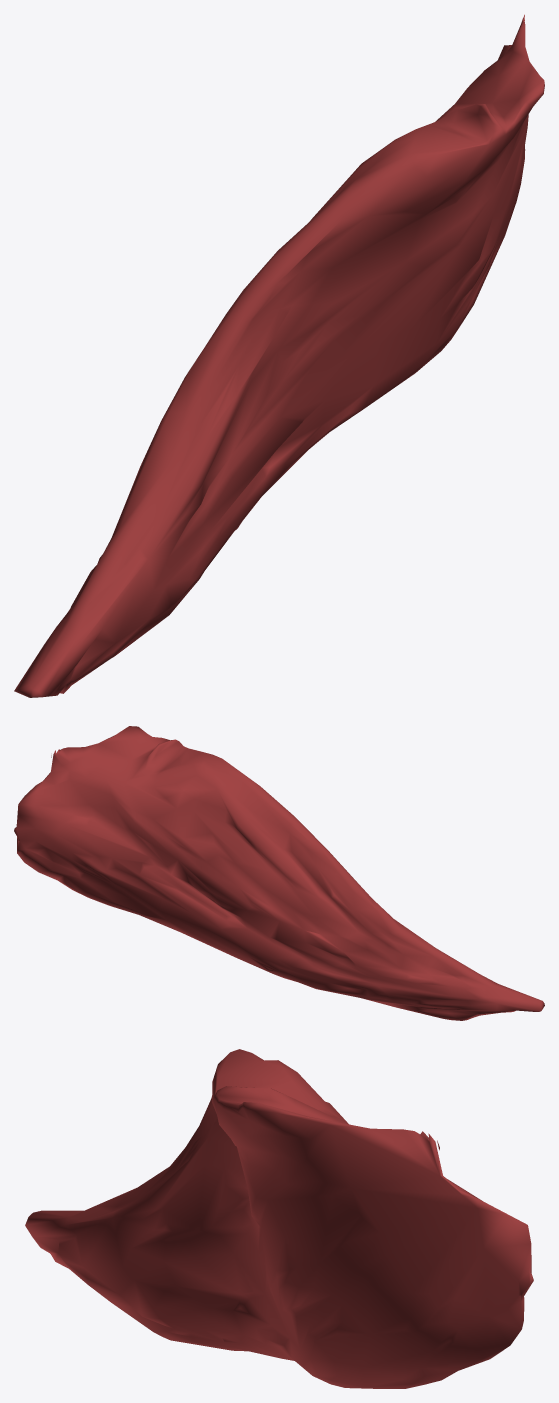
File: piriformis-muscle-r.glb
3 renders of one model, top to bottom at view 1: azimuth 30°, elevation 25°; view 2: azimuth 150°, elevation 25°; view 3: azimuth 270°, elevation 25°, orthographic. The views are drawn at different scales.
Visible parts, largest first — view 1: Piriformis muscle.r; view 2: Piriformis muscle.r; view 3: Piriformis muscle.r.
Boxes of the visible parts, box(x1,y1,x2,y2) form: Piriformis muscle.r: box(14, 14, 544, 697); Piriformis muscle.r: box(14, 726, 544, 1020); Piriformis muscle.r: box(25, 1049, 533, 1388).
Size of the model in its own units: 0.11 by 0.0631 by 0.0593.
